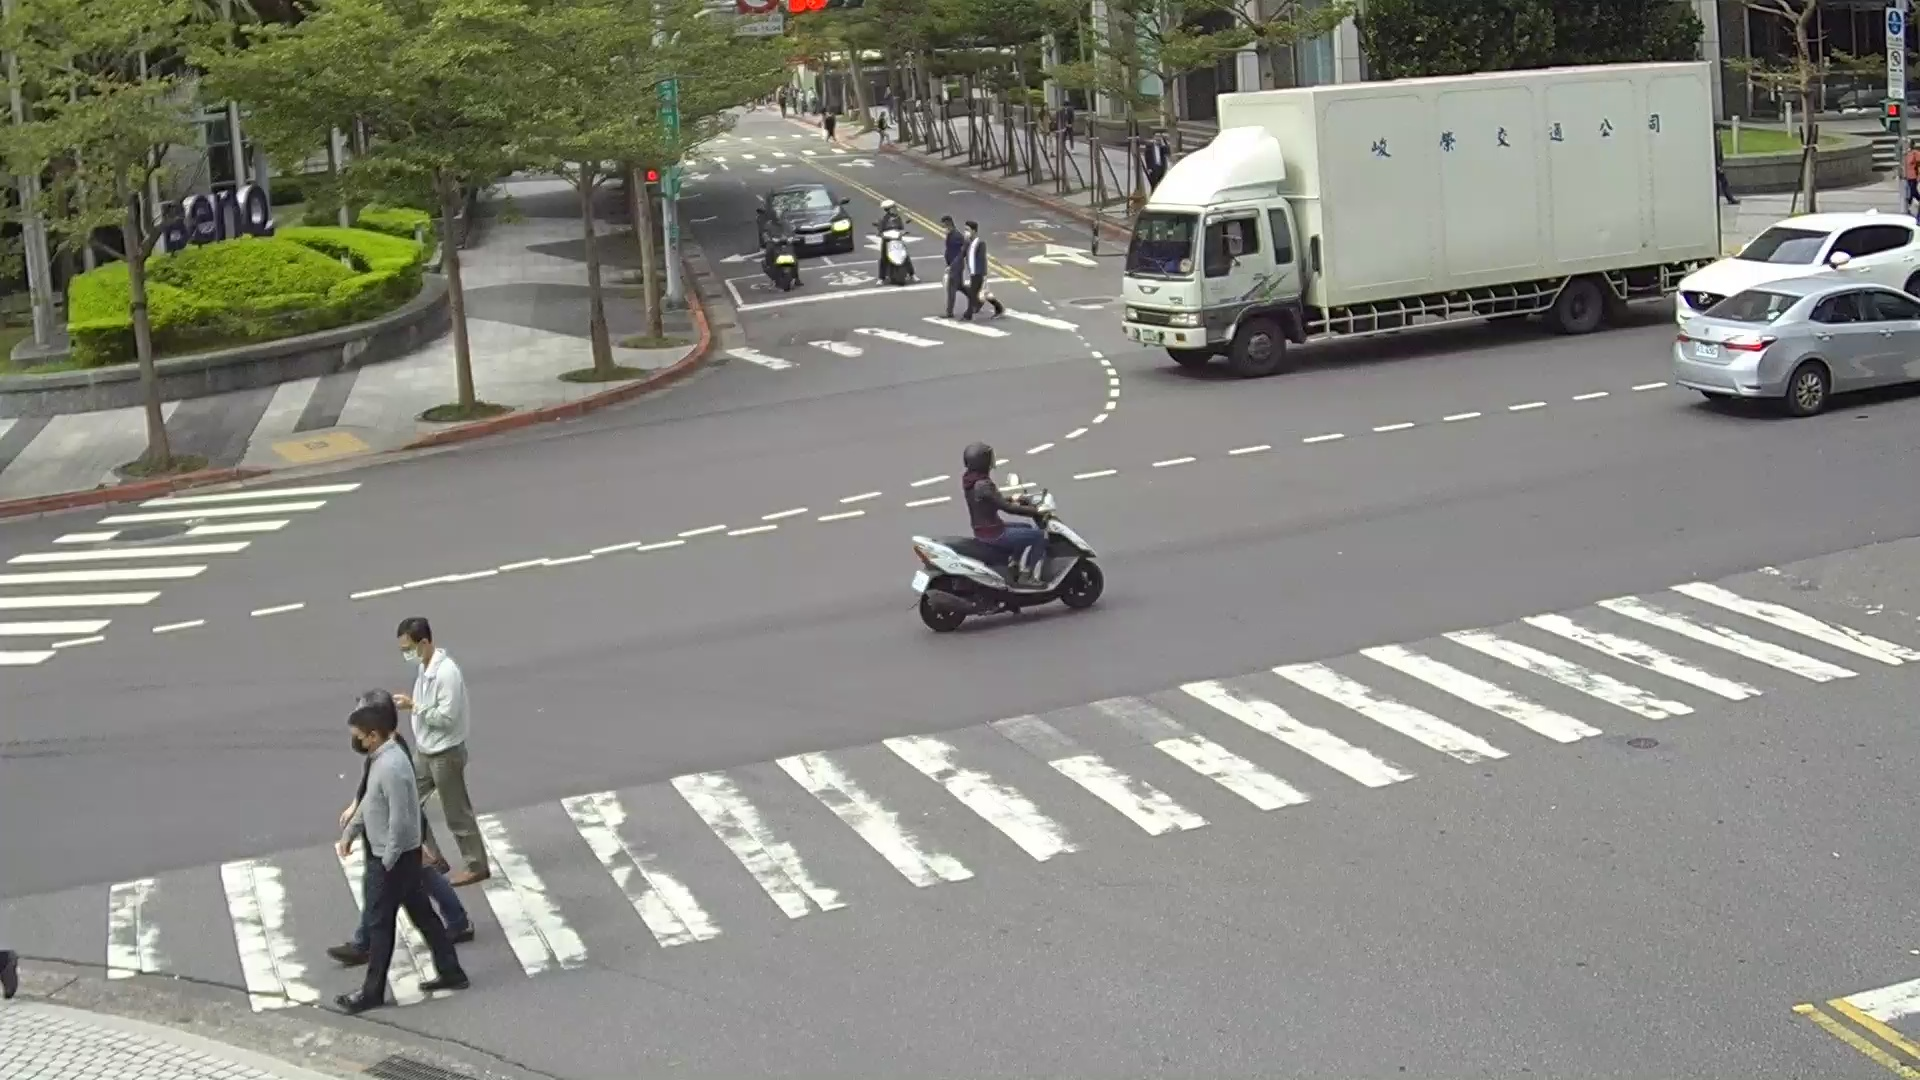bike: (912, 513, 1102, 634), (874, 230, 918, 285), (757, 239, 802, 291)
pedestrian: (328, 690, 470, 1024), (394, 614, 492, 889), (960, 438, 1051, 579), (956, 216, 988, 317), (941, 214, 969, 316), (874, 223, 915, 284), (1901, 140, 1920, 214), (874, 200, 903, 239), (821, 108, 836, 140)
vehicle: (1114, 62, 1740, 376), (1663, 276, 1920, 416), (1680, 211, 1920, 326), (754, 182, 855, 259)
